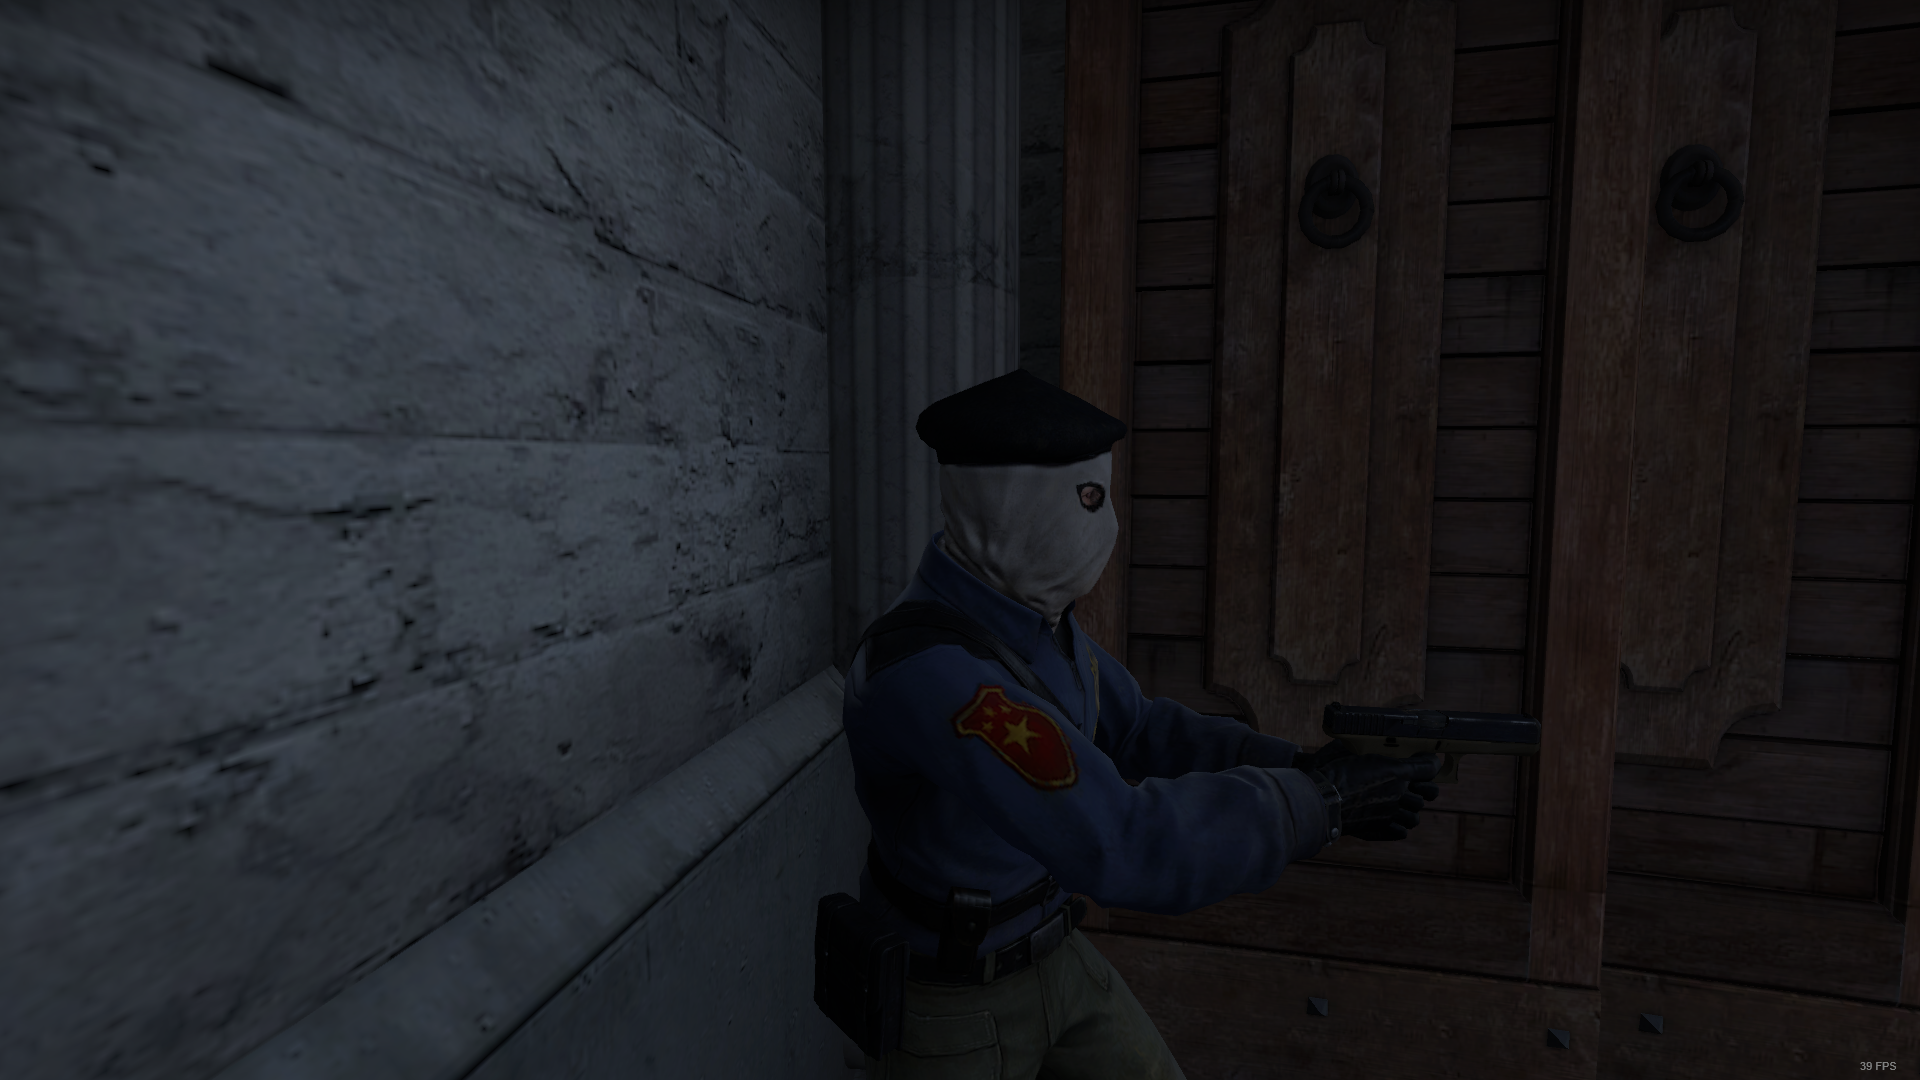t: (767, 326, 1469, 1080)
